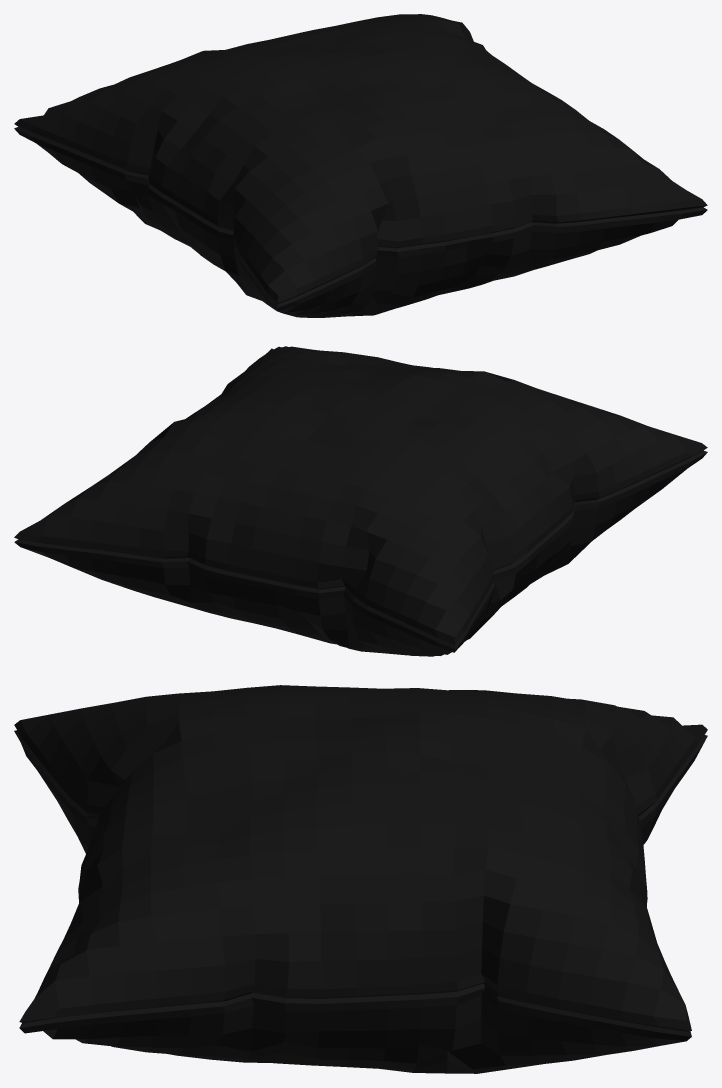
Rendered from pillow.fbx.
3 views of the same model, one above another, from view 1: azimuth 30°, elevation 25°; view 2: azimuth 150°, elevation 25°; view 3: azimuth 270°, elevation 25° (orthographic). The views are drawn at different scales.
Parts seen in each view (by area): view 1: Plane; view 2: Plane; view 3: Plane.
Boxes of the visible parts, x1=… form: Plane: x1=14, y1=14, x2=707, y2=317; Plane: x1=14, y1=346, x2=707, y2=656; Plane: x1=14, y1=685, x2=707, y2=1073.
Bounding box in the file's own units: 49.99 × 21.45 × 50.01.
